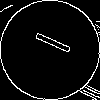I: (25, 25, 73, 57)
